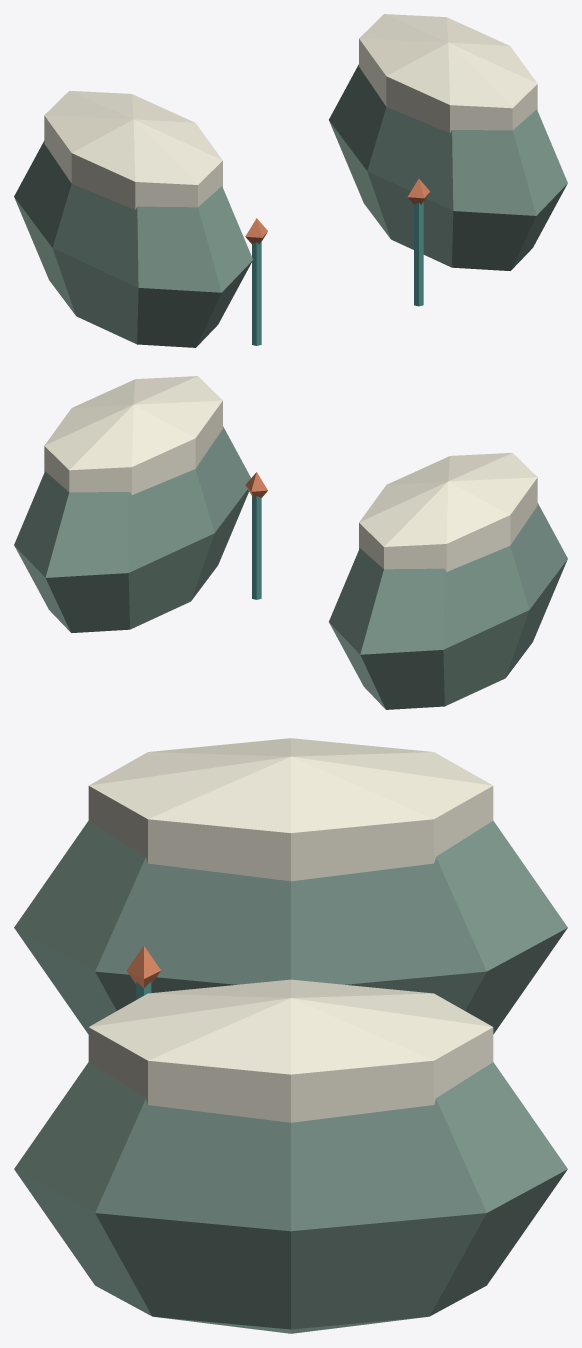
The model's file is narrow-passage.glb.
3 views of the same model, one above another, from view 1: azimuth 30°, elevation 25°; view 2: azimuth 150°, elevation 25°; view 3: azimuth 270°, elevation 25° (orthographic). The views are drawn at different scales.
Parts seen in each view (by area): view 1: right-wall, left-wall; view 2: right-wall, left-wall; view 3: right-wall, left-wall.
Part boxes in pixels (x1,y1,x2,y2): right-wall: (245, 14, 567, 345); left-wall: (14, 91, 252, 347); right-wall: (14, 376, 267, 632); left-wall: (329, 453, 567, 709); right-wall: (14, 945, 567, 1333); left-wall: (14, 738, 567, 1034).
Size of the model in its own units: 5 by 2.14 by 3.2.
